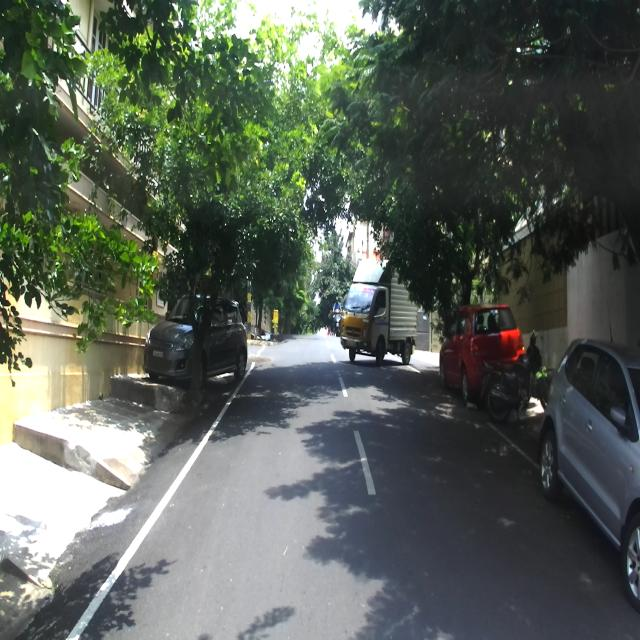car ahead at: (545, 333, 640, 586), (345, 250, 418, 361)
motorcycle ahead at: (487, 336, 548, 419)
